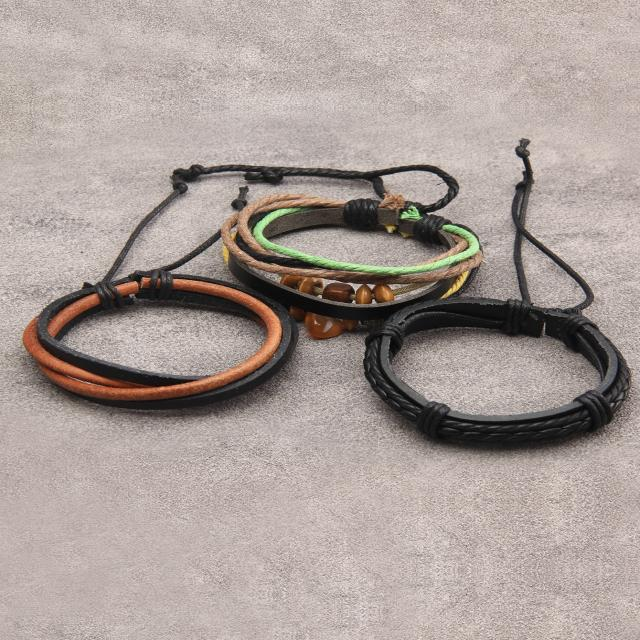bracelet: (0, 86, 640, 529)
